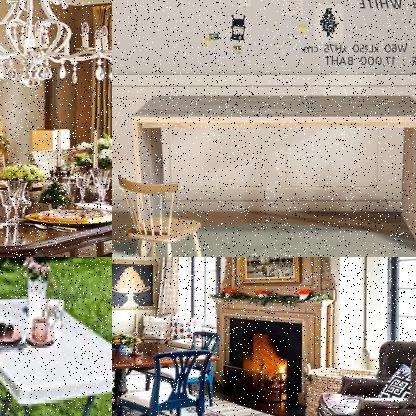table: (128, 87, 415, 256), (0, 284, 111, 415), (112, 331, 236, 415), (0, 166, 111, 256)
